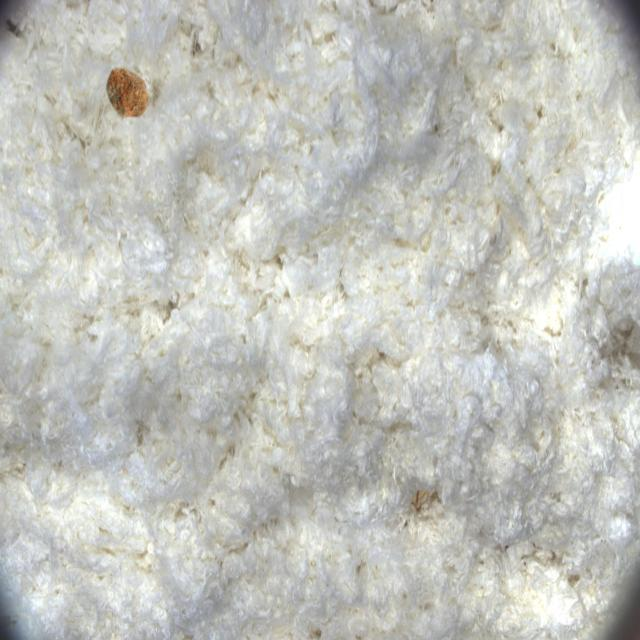dust: (88, 45, 174, 143)
